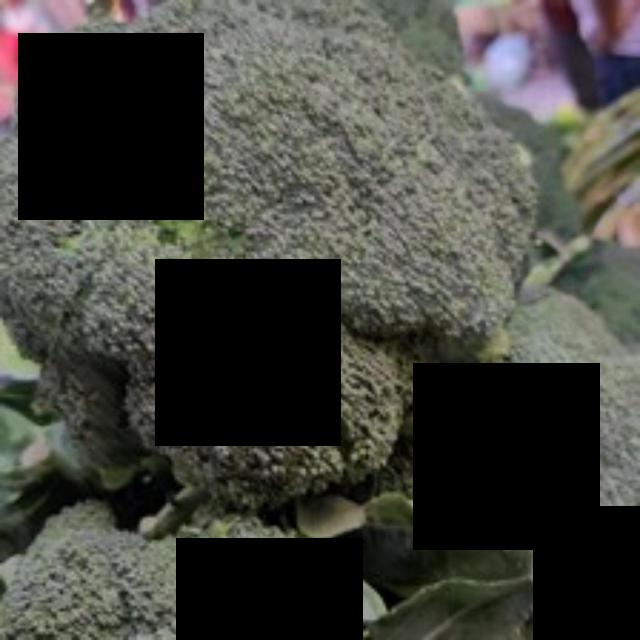broccoli: (4, 0, 542, 512)
